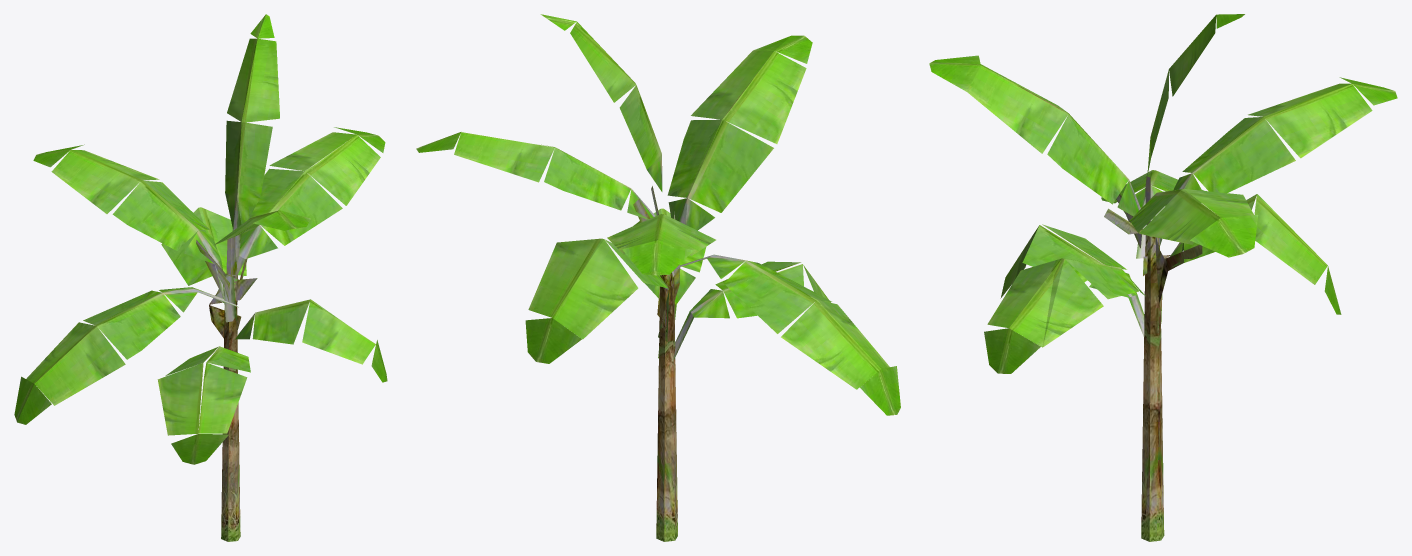
The model's file is cay-chuoi.glb.
The picture shows the model from 3 angles, left to right: view 1: azimuth 30°, elevation 25°; view 2: azimuth 150°, elevation 25°; view 3: azimuth 270°, elevation 25°; orthographic projection. The views are drawn at different scales.
Visible parts, largest first — view 1: CayChuoi; view 2: CayChuoi; view 3: CayChuoi.
Part boxes in pixels (x1,y1,x2,y2): CayChuoi: (14,14,387,541); CayChuoi: (416,14,900,541); CayChuoi: (929,14,1397,541).
Size of the model in its own units: 4.15 by 4.78 by 3.59.
1 material, 1 textured.
